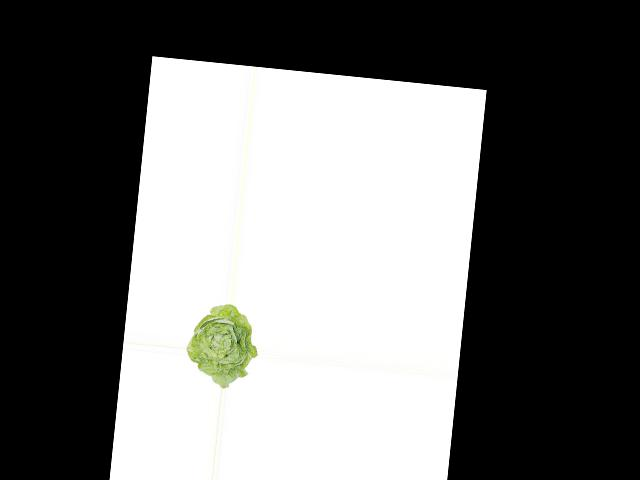lettuce: (184, 299, 262, 389)
